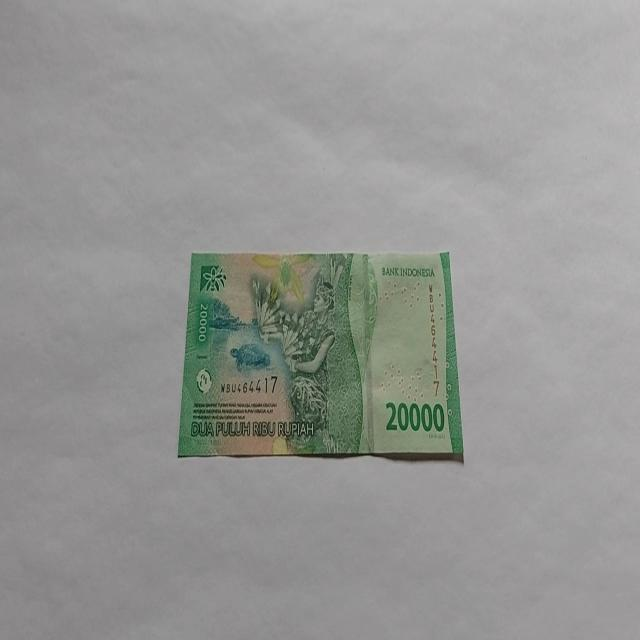dua puluh ribu rupiah: (176, 248, 464, 462)
